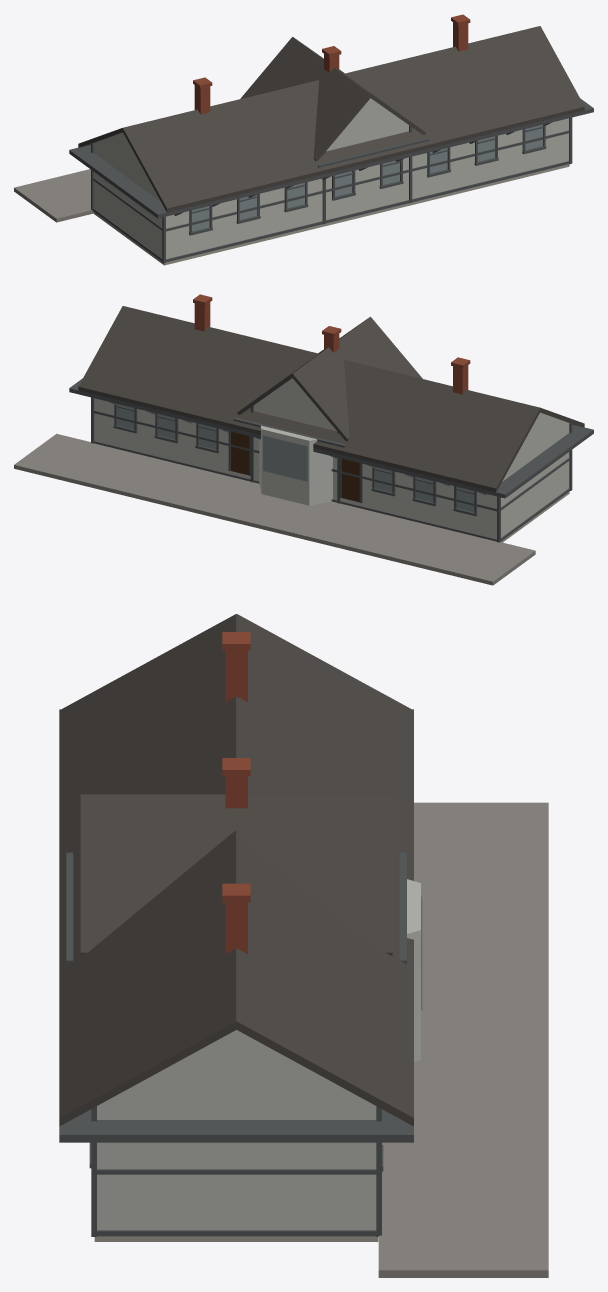
Rendered from Standard_16_Depot.glb.
3 views of the same model, one above another, from view 1: azimuth 30°, elevation 25°; view 2: azimuth 150°, elevation 25°; view 3: azimuth 270°, elevation 25° (orthographic). The views are drawn at different scales.
Parts seen in each view (by area): view 1: roof, walls, trim, platform, glass, sash, foundation, chimney; view 2: roof, platform, walls, trim, glass, sash, chimney, doors; view 3: roof, platform, walls, trim, chimney, foundation.
Boxes of the visible parts, box(x1,y1,x2,y2) form: roof: box(78, 26, 584, 212); walls: box(94, 98, 568, 259); trim: box(69, 98, 593, 263); platform: box(14, 169, 93, 222); glass: box(192, 125, 542, 231); sash: box(189, 124, 546, 235); foundation: box(93, 164, 569, 265); chimney: box(193, 14, 470, 114); roof: box(78, 306, 584, 492); platform: box(14, 433, 535, 585); walls: box(94, 378, 569, 538); trim: box(69, 378, 593, 542); glass: box(117, 404, 473, 512); sash: box(113, 404, 477, 516); chimney: box(193, 294, 470, 394); doors: box(231, 431, 359, 502); roof: box(59, 614, 413, 1125); platform: box(378, 802, 548, 1277); walls: box(97, 879, 420, 1230); trim: box(59, 709, 413, 1236); chimney: box(222, 632, 250, 953); foundation: box(94, 1236, 378, 1241).
Size of the model in its own units: 0.8198 by 0.2291 by 0.3626.
